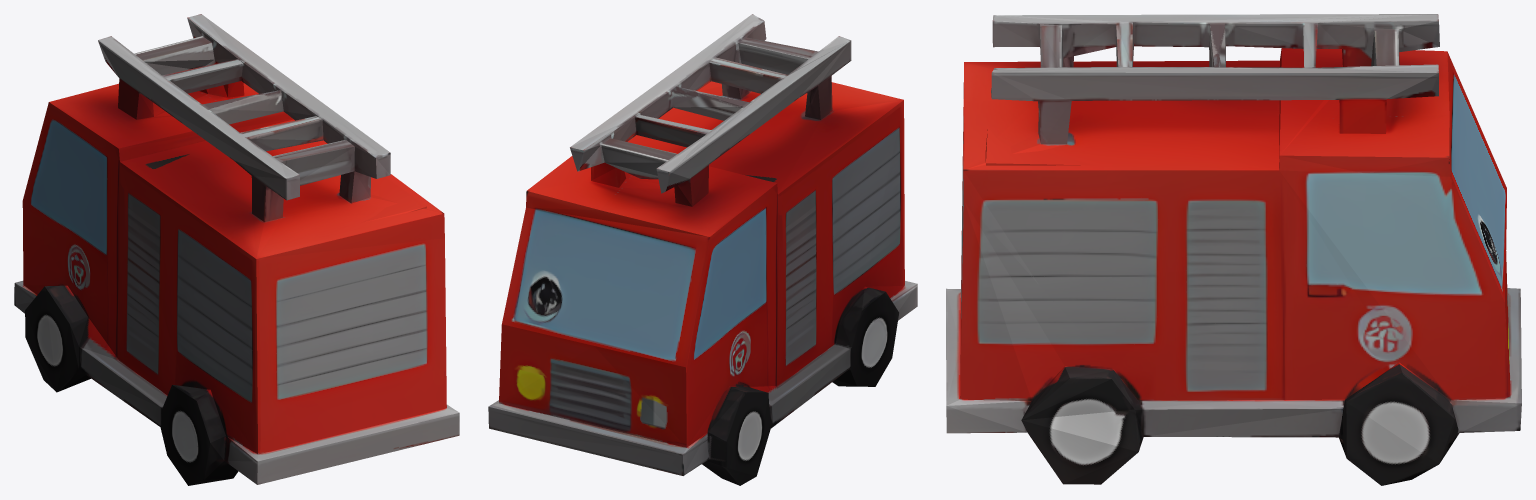
The picture shows the model from 3 angles, left to right: view 1: azimuth 30°, elevation 25°; view 2: azimuth 150°, elevation 25°; view 3: azimuth 270°, elevation 25°; orthographic projection. The views are drawn at different scales.
Parts seen in each view (by area): view 1: Figure; view 2: Figure; view 3: Figure.
Boxes of the visible parts, box(x1,y1,x2,y2) form: Figure: box(14, 14, 459, 485); Figure: box(488, 14, 917, 485); Figure: box(946, 14, 1521, 485).
Size of the model in its own units: 0.2145 by 0.2787 by 0.3833.
Materials: 1 (1 with a texture image).
